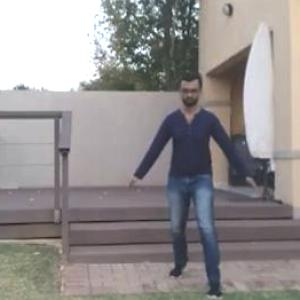land: (128, 58, 270, 299)
